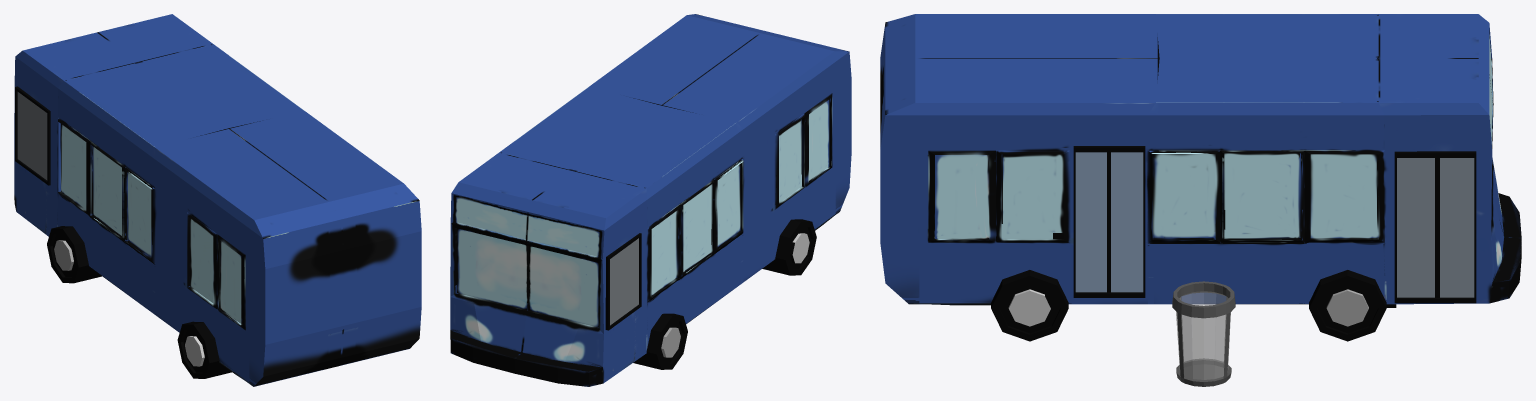
File: busV4.fbx
The picture shows the model from 3 angles, left to right: view 1: azimuth 30°, elevation 25°; view 2: azimuth 150°, elevation 25°; view 3: azimuth 270°, elevation 25°; orthographic projection. The views are drawn at different scales.
Visible parts, largest first — view 1: Bus, Wheels, Window; view 2: Bus, Wheels, Window; view 3: Bus, Doors, Wheels, Trashcan.
Boxes of the visible parts, x1,y1,x2,y2 form: Bus: [14, 14, 421, 386]; Wheels: [47, 226, 231, 378]; Window: [15, 86, 50, 185]; Bus: [450, 14, 851, 386]; Wheels: [633, 219, 816, 369]; Window: [605, 233, 641, 330]; Bus: [880, 14, 1521, 305]; Doors: [1073, 146, 1476, 303]; Wheels: [991, 270, 1386, 341]; Trashcan: [1172, 281, 1235, 386].
Size of the model in its own units: 1378 by 905 by 2281.
